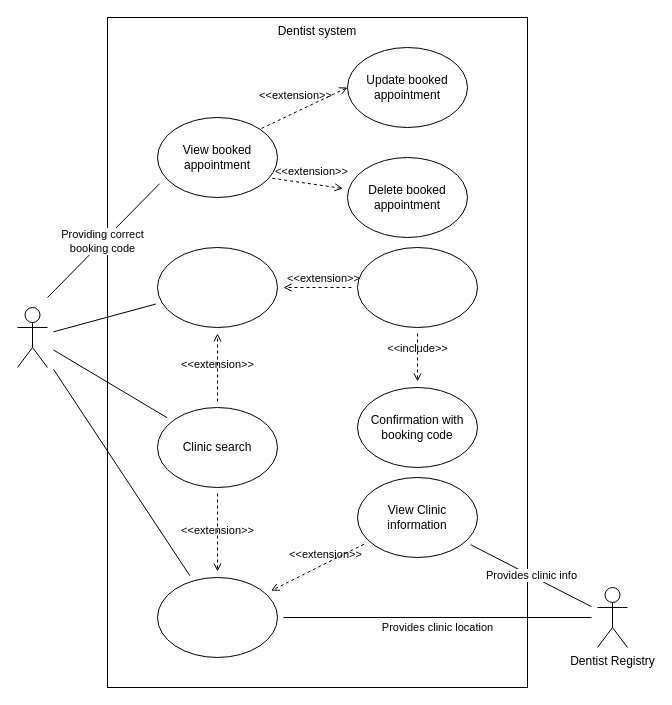
Image size: 672x705. Some labels were removed from this diagram. The box of each missing label's shape, as (x1, y1, x2, y2) in pixels:
Avaliable booking search: (156, 246, 278, 328)
Book appointment: (356, 246, 478, 328)
User: (16, 306, 48, 368)
View clinic map: (156, 576, 278, 658)
